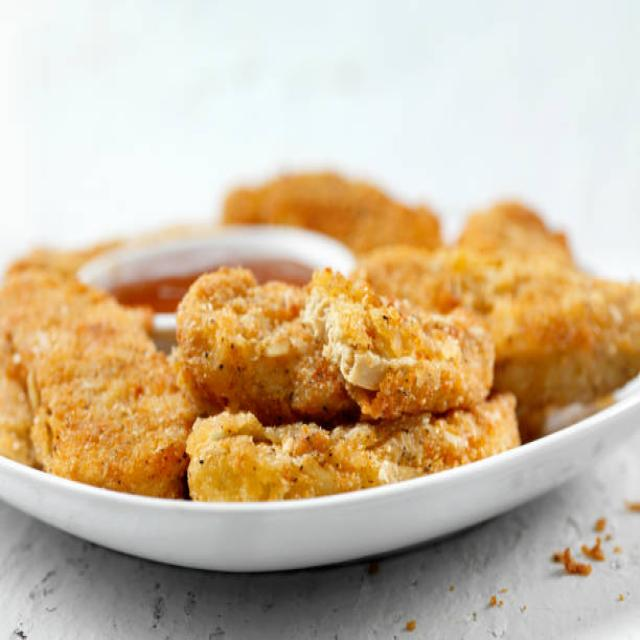Frango: (0, 164, 639, 509)
